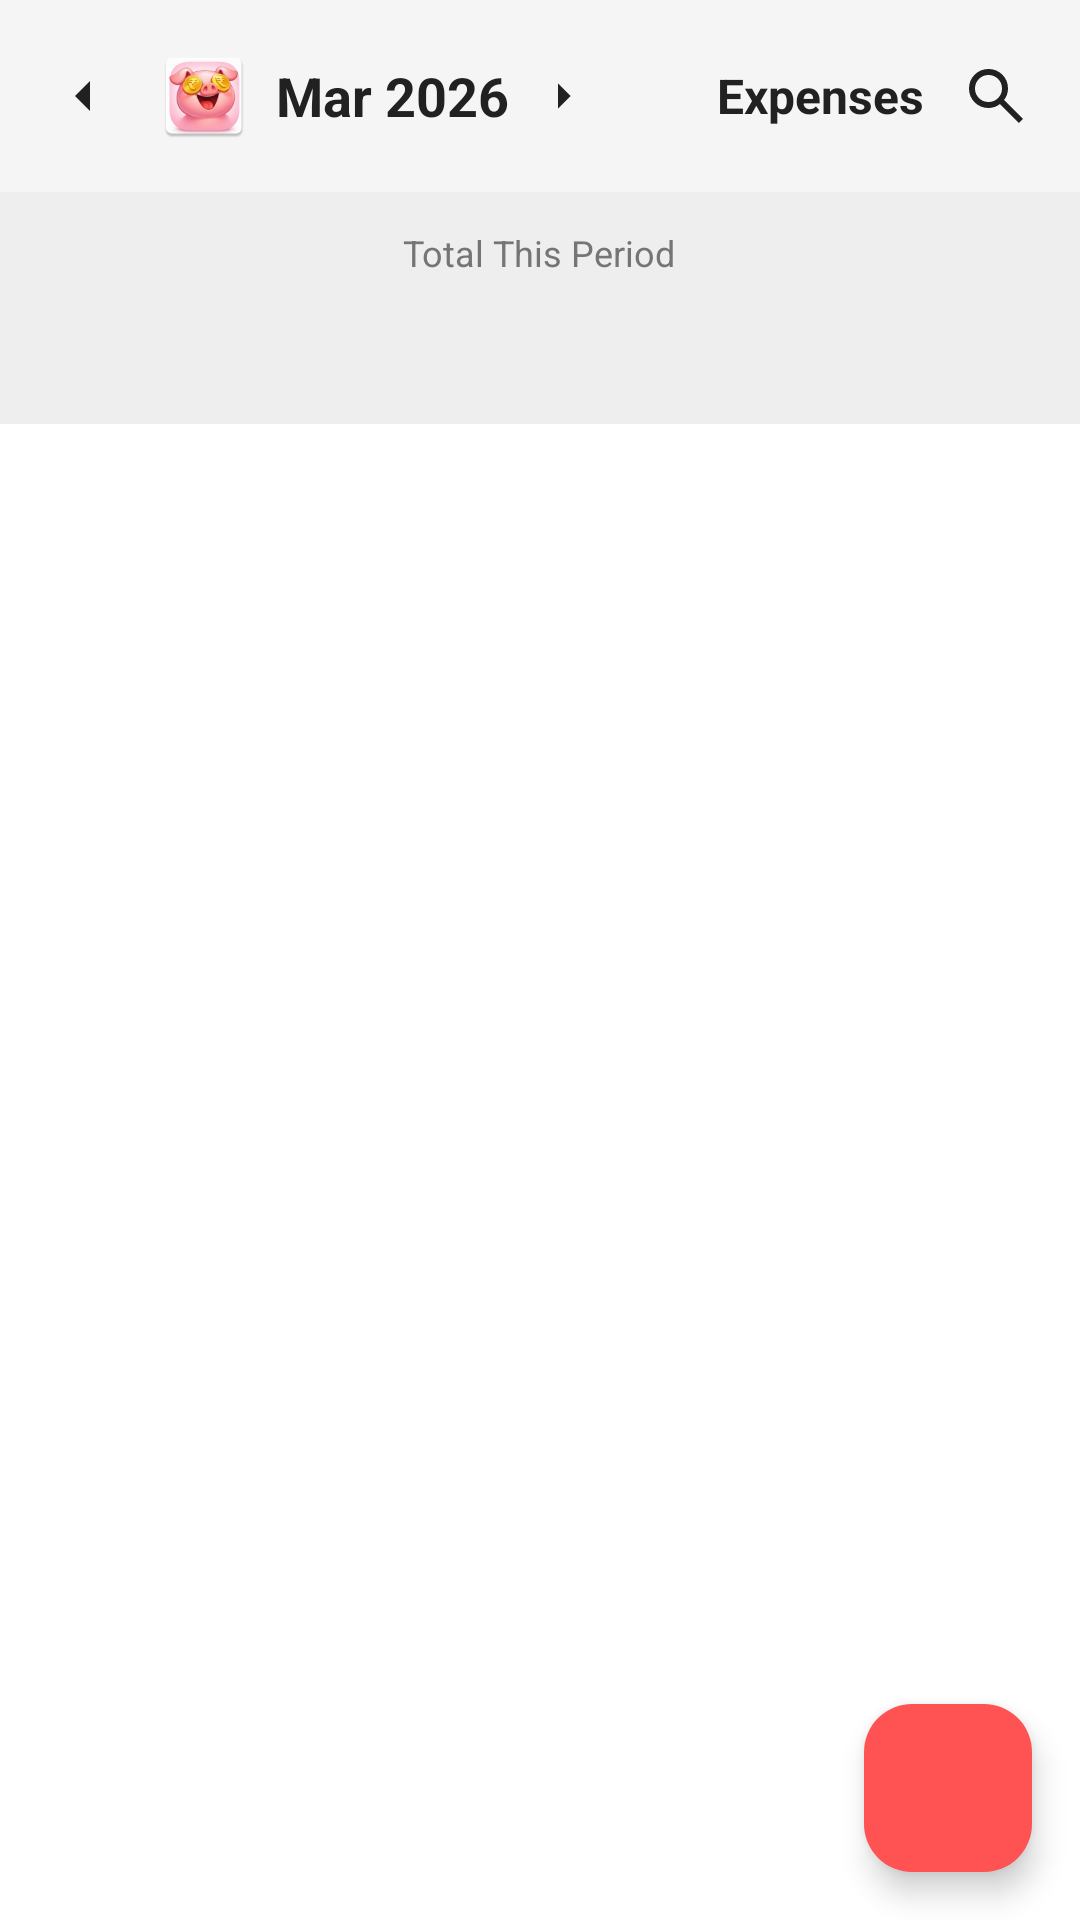

Where icons sit on this 1080w x 1920h app screen, as BBox(x1, y1, x2, y2):
Back: BBox(75, 81, 90, 111)
Next: BBox(558, 83, 571, 109)
Search: BBox(969, 69, 1023, 123)
